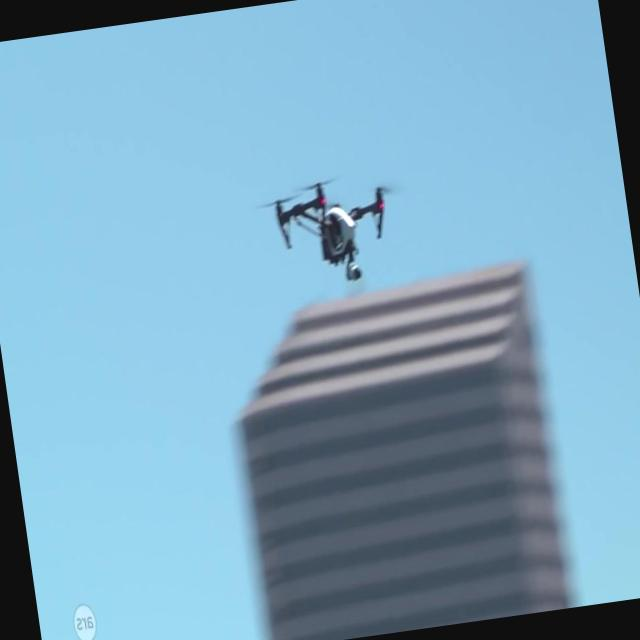drone: (270, 170, 396, 294)
